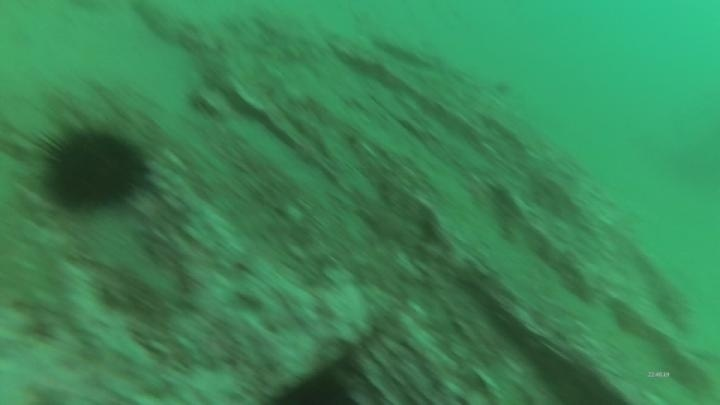echinus: (33, 117, 154, 216), (259, 363, 361, 405)
